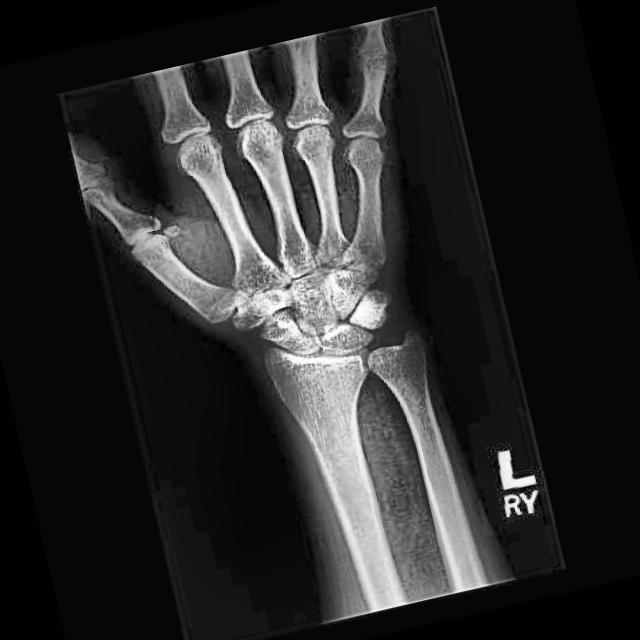wrist positive: (126, 231, 196, 273), (301, 260, 357, 283)
